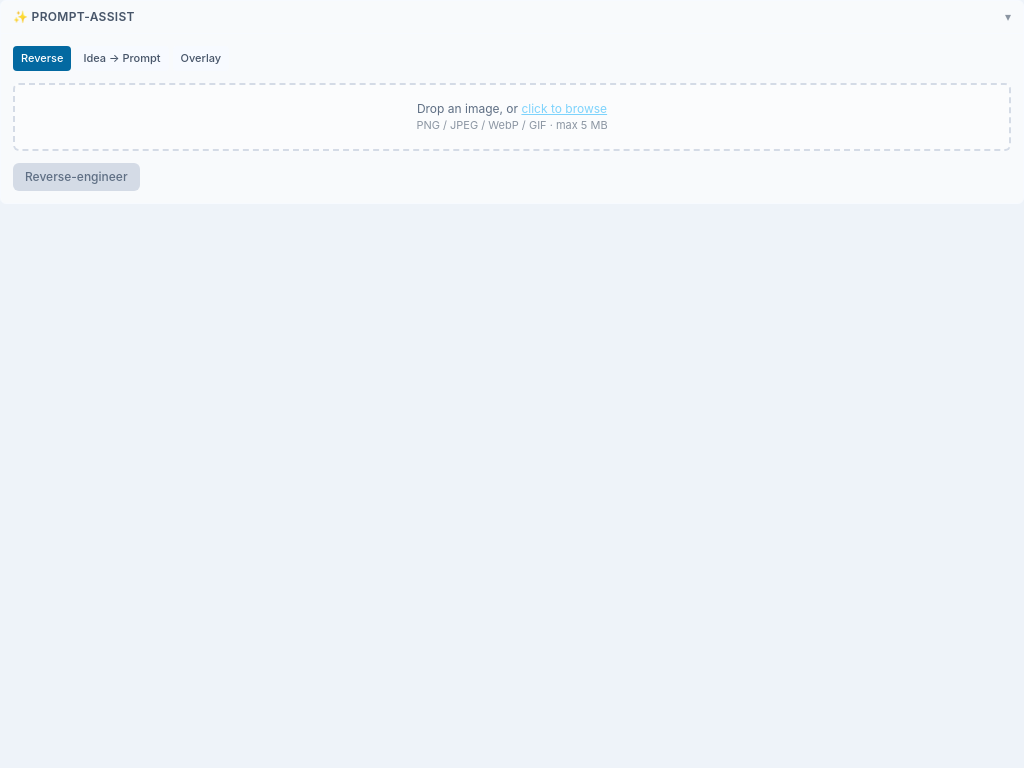
PromptAssistPanel › Overlay tab opens the modal instead of inline switching
Step 1. Click the tab with test id "prompt-assist-tab-overlay" → point(201, 58), box [172, 46, 229, 70]
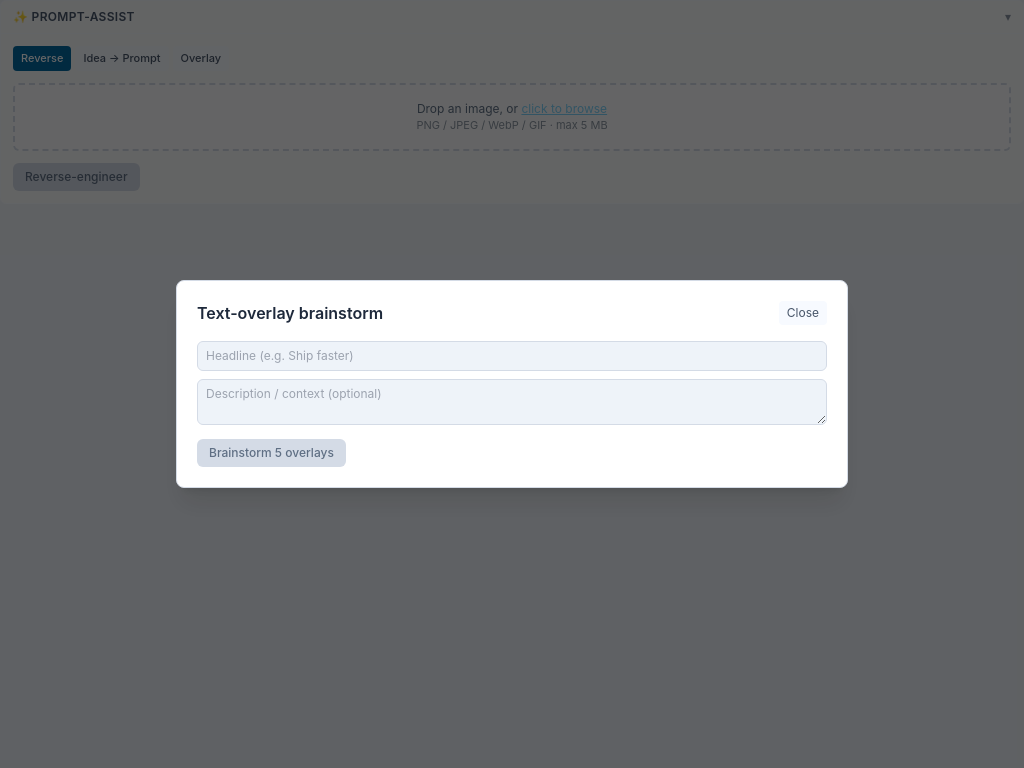
Expected: the element with test id "reverse-dropzone" is shown, [13, 82, 1011, 190]
Expected: the element with test id "overlay-modal-backdrop" is shown
